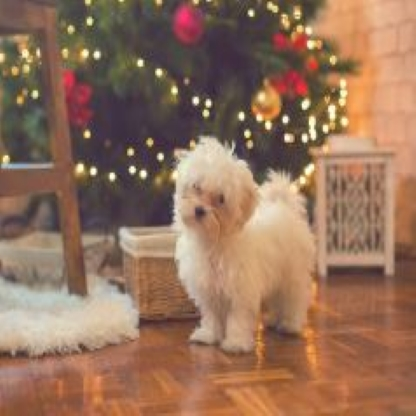maltese: (160, 130, 322, 351)
